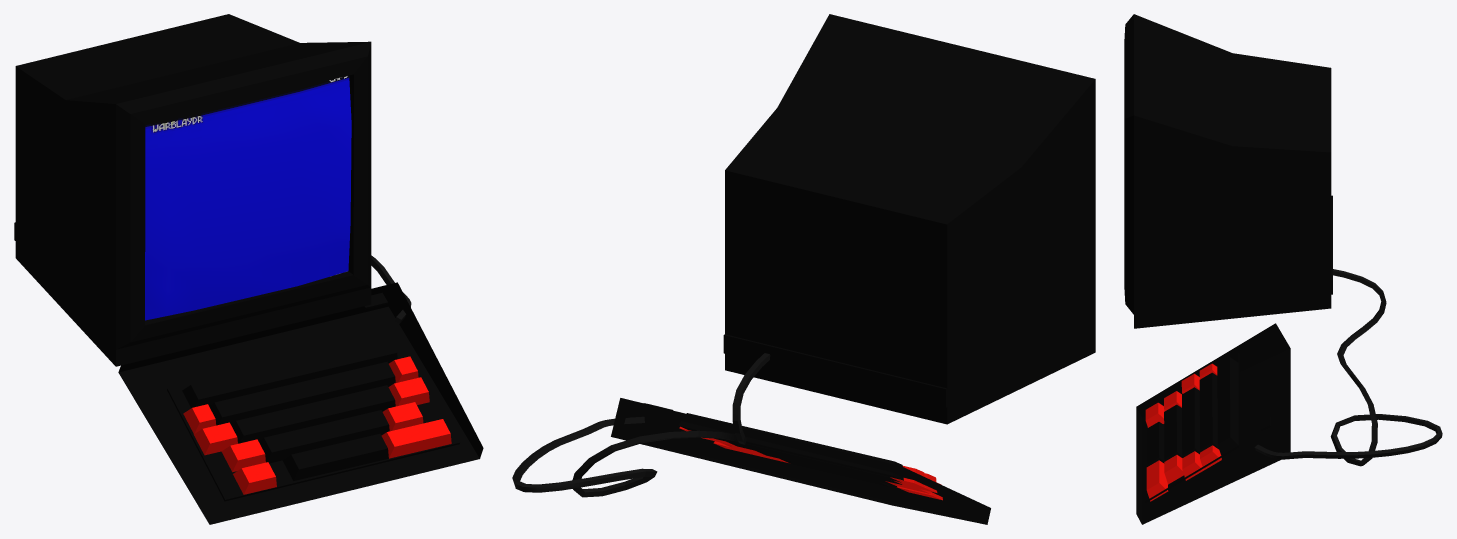
File: thesystemgarden.glb
3 views of the same model, side by side, from view 1: azimuth 30°, elevation 25°; view 2: azimuth 150°, elevation 25°; view 3: azimuth 270°, elevation 25° (orthographic). The views are drawn at different scales.
Parts seen in each view (by area): view 1: screen, oric, videotarget, button; view 2: screen, oric, cable; view 3: screen, oric, cable.
Boxes of the visible parts, x1,y1,x2,y2 form: screen: (14, 14, 371, 366); oric: (118, 282, 483, 524); videotarget: (145, 75, 351, 320); button: (233, 462, 276, 494); screen: (723, 14, 1095, 424); oric: (611, 398, 990, 524); cable: (512, 353, 770, 497); screen: (1124, 14, 1332, 328); oric: (1136, 323, 1290, 524); cable: (1254, 269, 1442, 466).
Size of the model in its own units: 1.36 by 1.48 by 1.17.
Materials: 4 (1 with a texture image).
